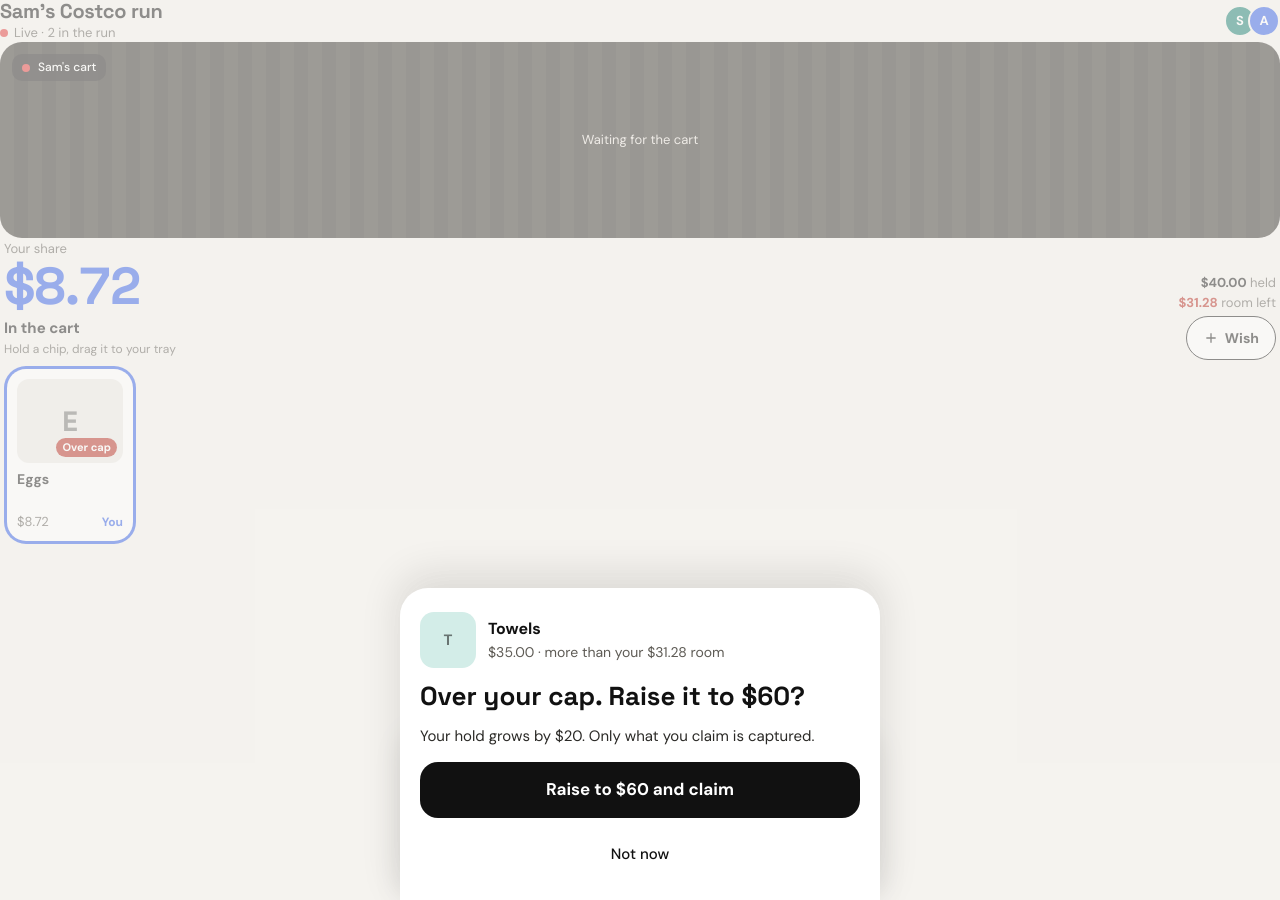
Test case: over-cap drop opens the sheet; Raise to $60 and claim posts cap + $20, then claims
This screenshot has width=1280, height=900.
Check: the dialog "Over your cap" shows "Over your cap. Raise it to $60?", box [400, 588, 880, 899]
Check: the dialog "Over your cap" shows "$35.00 · more than your $31.28 room", box [400, 588, 880, 899]
Click the button "Raise to $60 and claim". click: (640, 790)
box: [420, 762, 860, 818]
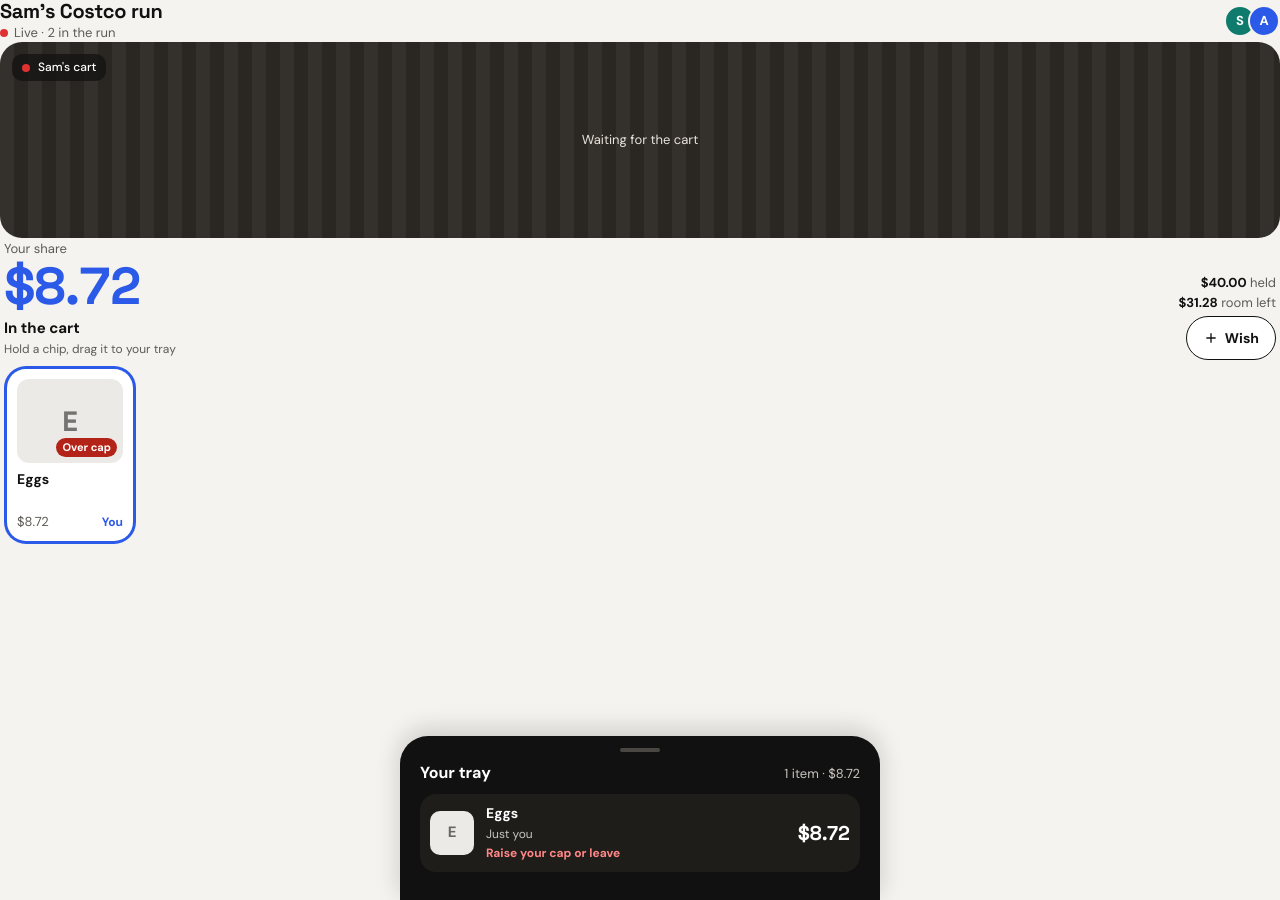
Check: the dialog is gone
